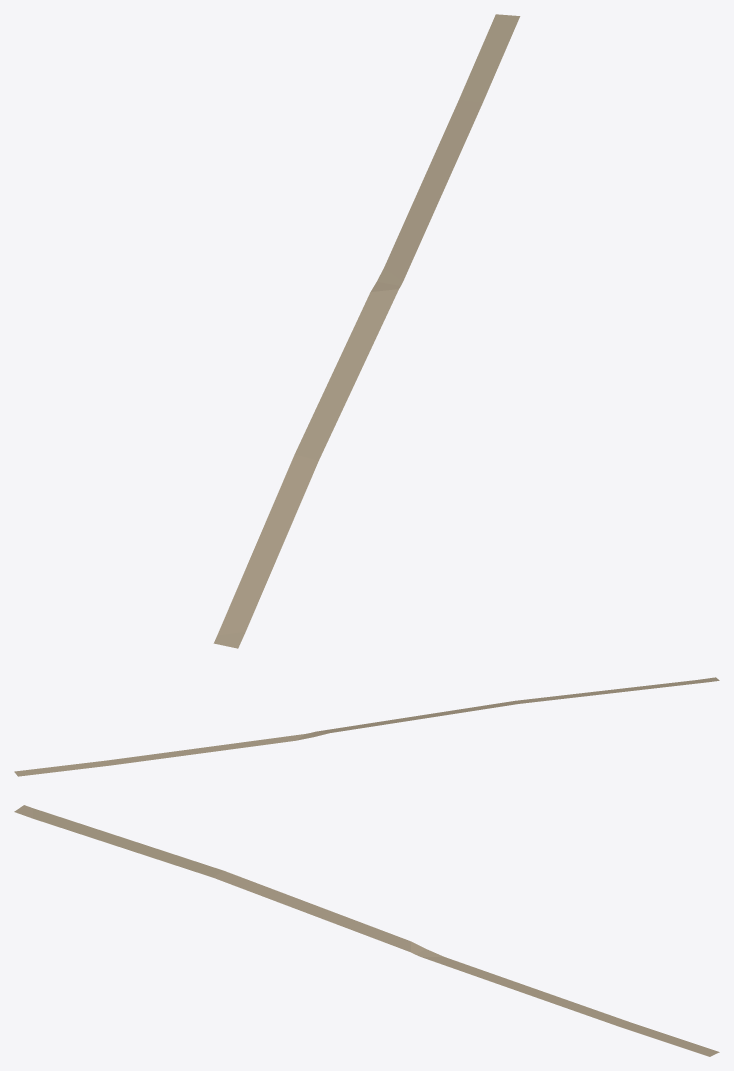
File: farm_-58_-46_track.glb
The picture shows the model from 3 angles, top to bottom: view 1: azimuth 30°, elevation 25°; view 2: azimuth 150°, elevation 25°; view 3: azimuth 270°, elevation 25°; orthographic projection. The views are drawn at different scales.
Parts seen in each view (by area): view 1: geometry_0; view 2: geometry_0; view 3: geometry_0.
Boxes of the visible parts, x1=… form: geometry_0: x1=213, y1=14, x2=520, y2=648; geometry_0: x1=14, y1=677, x2=719, y2=776; geometry_0: x1=14, y1=805, x2=719, y2=1056.
Size of the model in its own units: 130 by 2.37 by 149.
